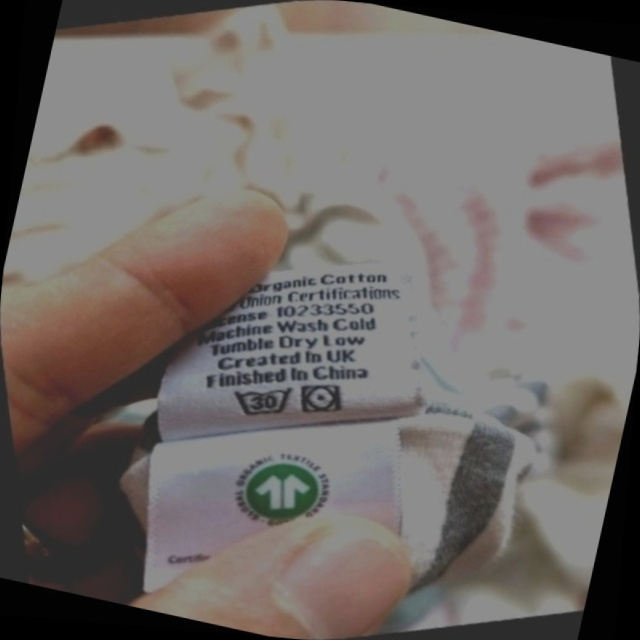30C: (218, 365, 308, 438)
tumble_dry_low: (288, 368, 355, 430)
